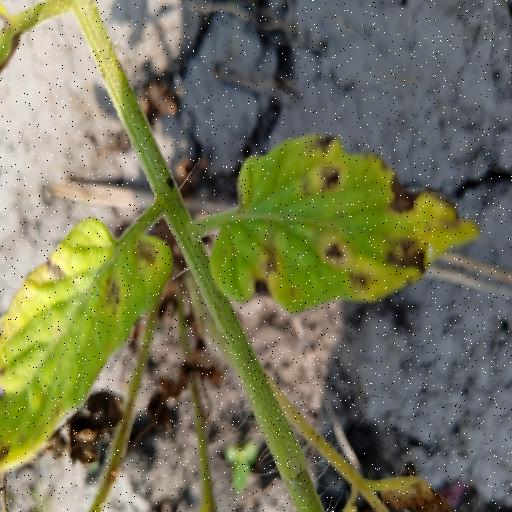Tomato_Brown_Spots: (205, 129, 484, 319), (0, 221, 175, 479)
